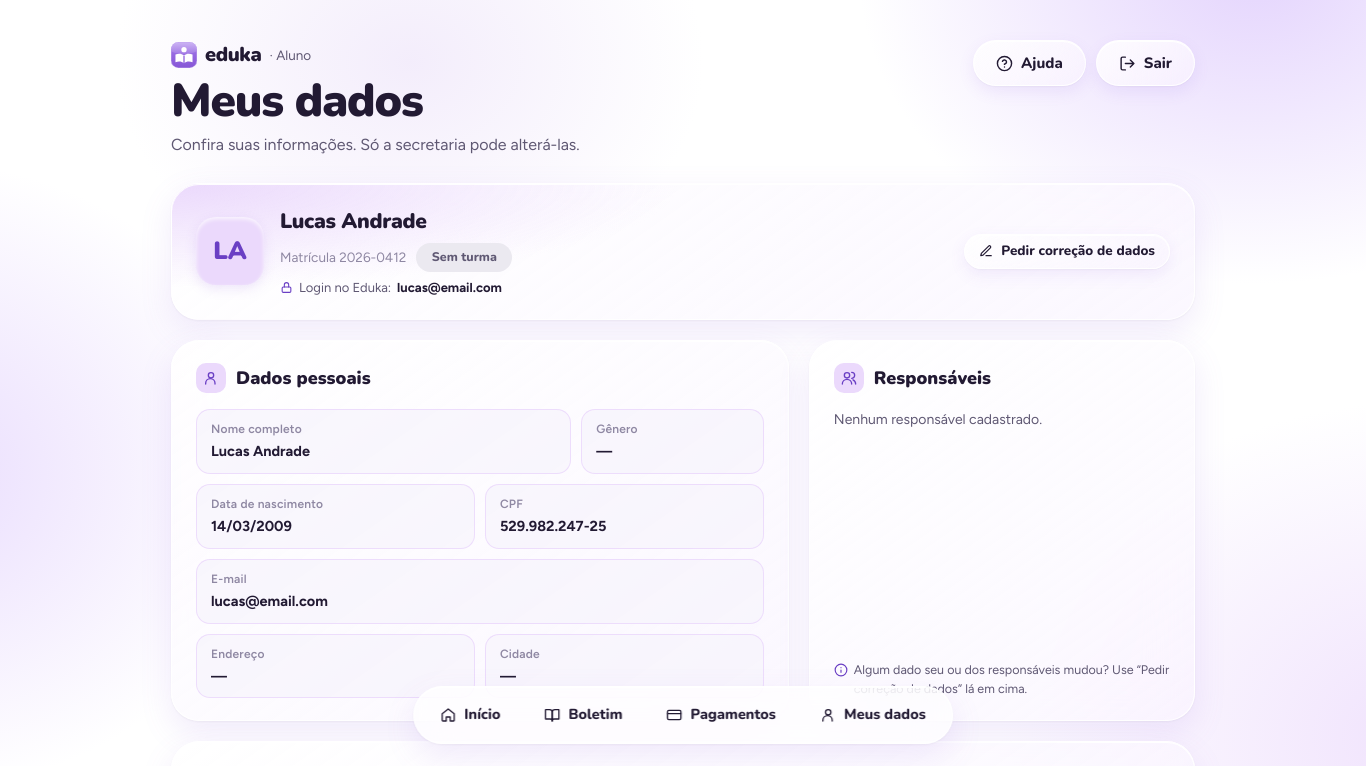
Test: MeusDados › envia o pedido de correção à secretaria e passa a mostrar que está aguardando
Step 1. Click the button "Pedir correção de dados" → coordinates (1067, 251), box [964,234,1170,269]
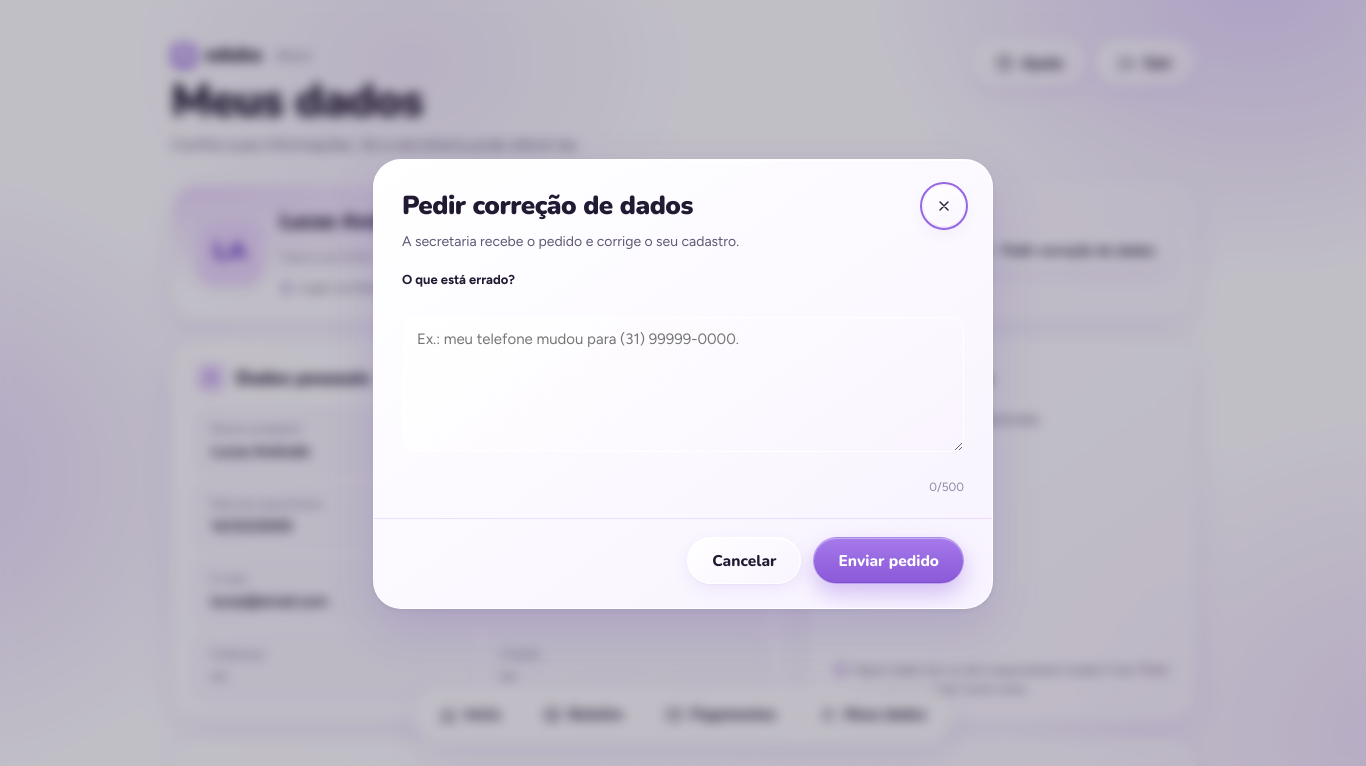
Step 2. Type "Meu telefone mudou" into the text box labelled "O que está errado?" → coordinates (683, 385), box [402,317,964,452]
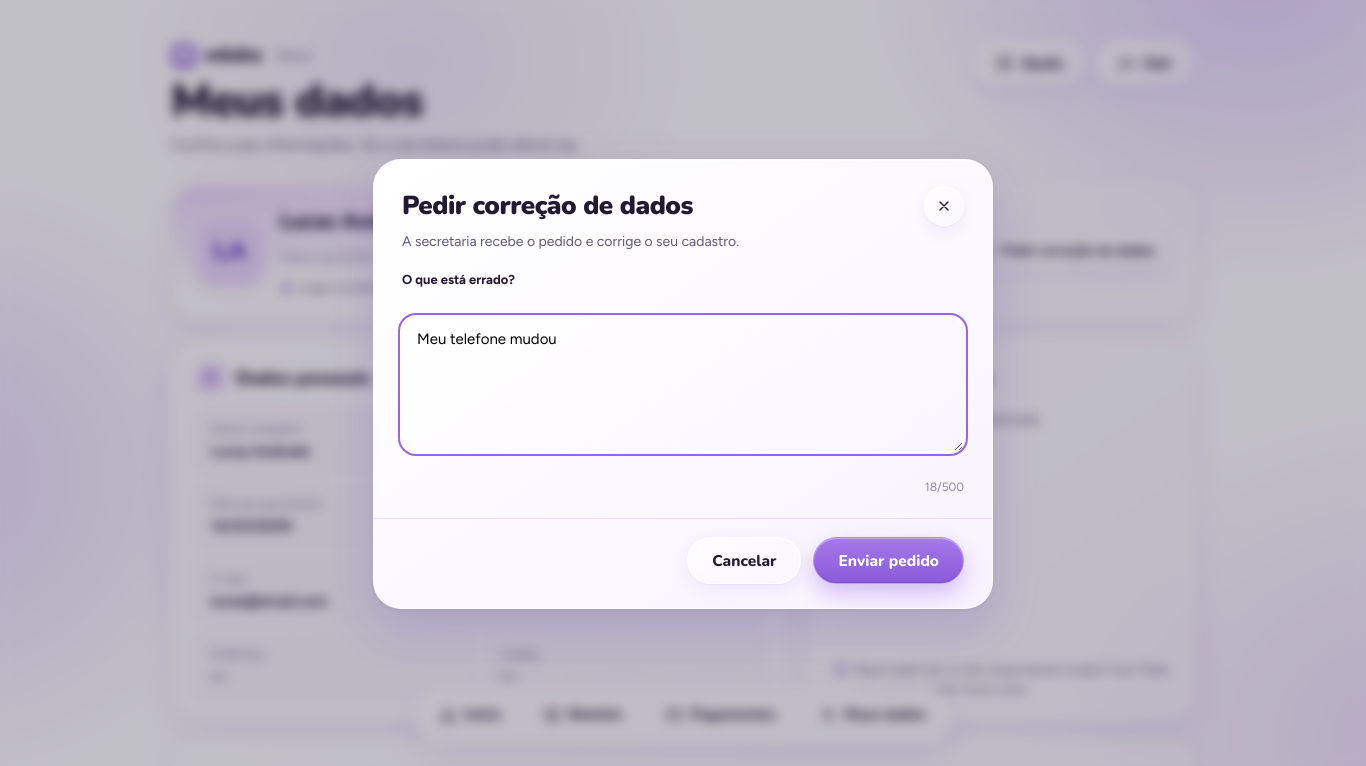
Step 3. Click the button "Enviar pedido" → coordinates (889, 561), box [814,537,964,584]
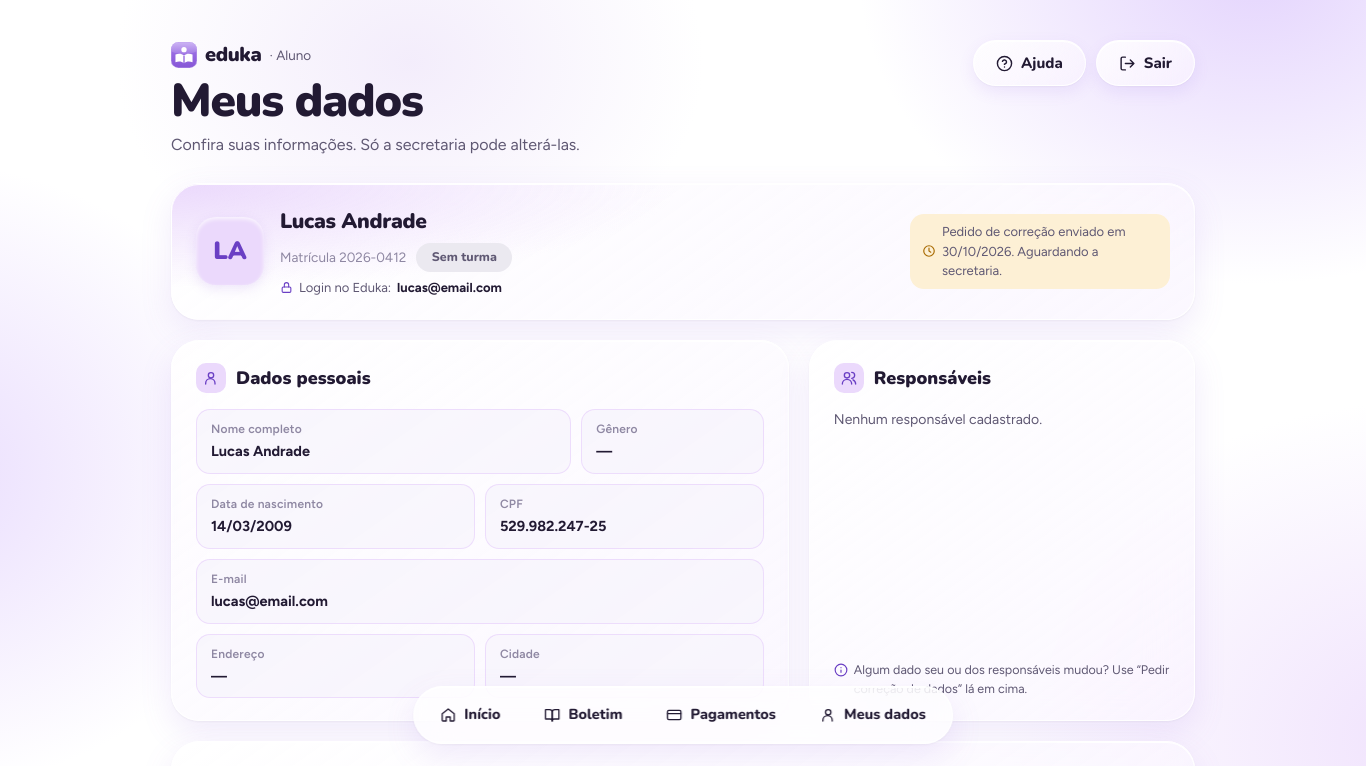
Check: the text "Pedido de correção enviado em 30/10/2026. Aguardando a secretaria." is shown, box [910,214,1170,289]
